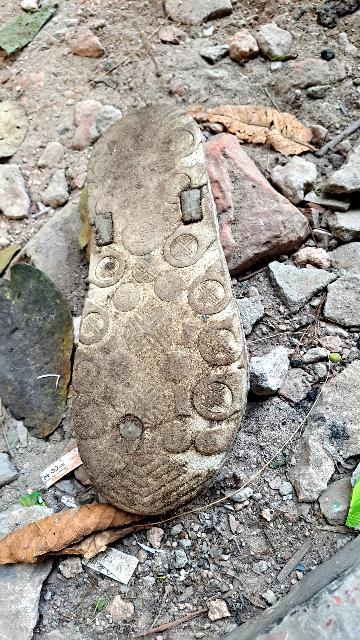sandal: (45, 117, 253, 515)
